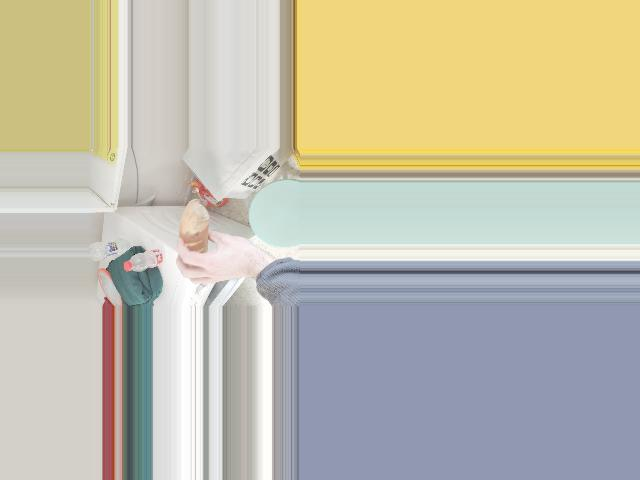sweet_potato: (179, 211, 208, 256)
